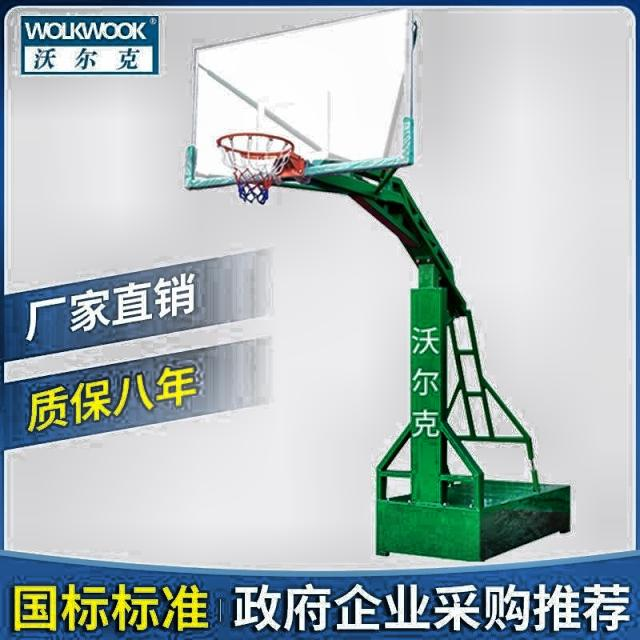rim: (218, 131, 296, 205)
